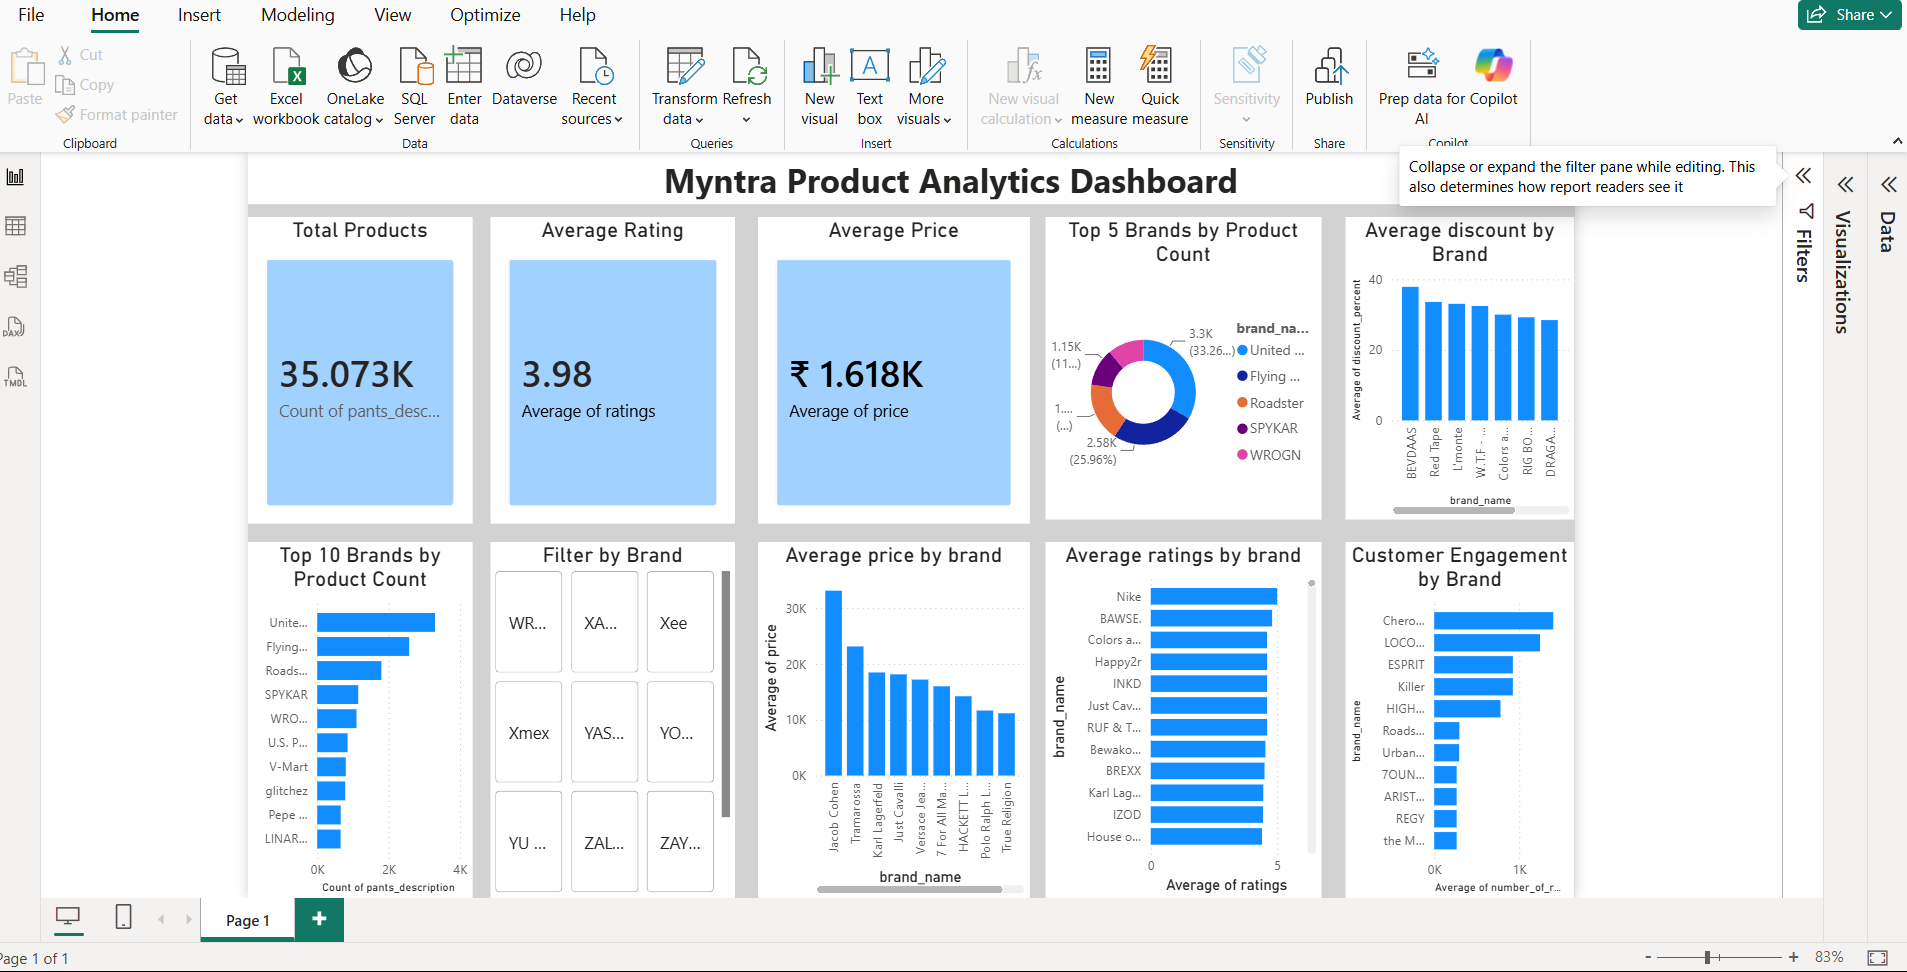

This screenshot's page, from the dashboard's own definition file:
{"tool":"powerbi","page":{"name":"Page 1","canvas":[1280,720],"ordinal":0},"visuals":[{"type":"cardVisual","title":"Total Products","fields":{"Data":["CountNonNull(Cleaned_Myntra_Dataset.pants_description)"]},"box":[0,63.1,216.8,296.4],"z":0},{"type":"cardVisual","title":"Average Price","fields":{"Data":["Avg(Cleaned_Myntra_Dataset.price)"]},"box":[492.6,63.1,262.1,296.4],"z":1000},{"type":"cardVisual","title":"Average Rating","fields":{"Data":["Avg(Cleaned_Myntra_Dataset.ratings)"]},"box":[234.6,63.1,236,296.4],"z":2000},{"type":"clusteredBarChart","title":"Top 10 Brands by Product Count","fields":{"Category":["Cleaned_Myntra_Dataset.brand_name"],"Y":["CountNonNull(Cleaned_Myntra_Dataset.pants_description)"]},"box":[0,376,216.8,344.4],"z":3000},{"type":"donutChart","title":"Top 5 Brands by Product Count","fields":{"Category":["Cleaned_Myntra_Dataset.brand_name"],"Y":["CountNonNull(Cleaned_Myntra_Dataset.pants_description)"]},"box":[769.8,63.1,266.2,292.3],"z":4000},{"type":"advancedSlicerVisual","title":"Filter by Brand","fields":{"Values":["Cleaned_Myntra_Dataset.brand_name"]},"box":[234.6,376,236,344.4],"z":5000},{"type":"clusteredColumnChart","title":"Average price by brand","fields":{"Category":["Cleaned_Myntra_Dataset.brand_name"],"Y":["Avg(Cleaned_Myntra_Dataset.price)"]},"box":[492.6,376,262.1,344.4],"z":6000},{"type":"clusteredBarChart","title":"Average ratings by brand","fields":{"Category":["Cleaned_Myntra_Dataset.brand_name"],"Y":["Avg(Cleaned_Myntra_Dataset.ratings)"]},"box":[769.8,376,266.2,344.4],"z":7000},{"type":"clusteredColumnChart","title":"Average discount by Brand","fields":{"Category":["Cleaned_Myntra_Dataset.brand_name"],"Y":["Avg(Cleaned_Myntra_Dataset.discount_percent)"]},"box":[1059.4,63.1,220.9,292.3],"z":8000},{"type":"clusteredBarChart","title":"Customer Engagement by Brand","fields":{"Category":["Cleaned_Myntra_Dataset.brand_name"],"Y":["Avg(Cleaned_Myntra_Dataset.number_of_ratings)"]},"box":[1059.4,376,220.9,344.4],"z":9000},{"type":"textbox","box":[0,0,1280.3,50.8],"z":10000}]}

Visuals, with their boxes on the page's 1280x720 design canvas (x1, y1, x2, y2). These are canvas units, not pixel positions in the 1907x972 screenshot, which may show the page scaled, cropped or inside an application window:
"Total Products" cardVisual: <bbox>0, 63, 217, 360</bbox>
"Average Price" cardVisual: <bbox>493, 63, 755, 360</bbox>
"Average Rating" cardVisual: <bbox>235, 63, 471, 360</bbox>
"Top 10 Brands by Product Count" clusteredBarChart: <bbox>0, 376, 217, 720</bbox>
"Top 5 Brands by Product Count" donutChart: <bbox>770, 63, 1036, 355</bbox>
"Filter by Brand" advancedSlicerVisual: <bbox>235, 376, 471, 720</bbox>
"Average price by brand" clusteredColumnChart: <bbox>493, 376, 755, 720</bbox>
"Average ratings by brand" clusteredBarChart: <bbox>770, 376, 1036, 720</bbox>
"Average discount by Brand" clusteredColumnChart: <bbox>1059, 63, 1280, 355</bbox>
"Customer Engagement by Brand" clusteredBarChart: <bbox>1059, 376, 1280, 720</bbox>
textbox: <bbox>0, 0, 1280, 51</bbox>
